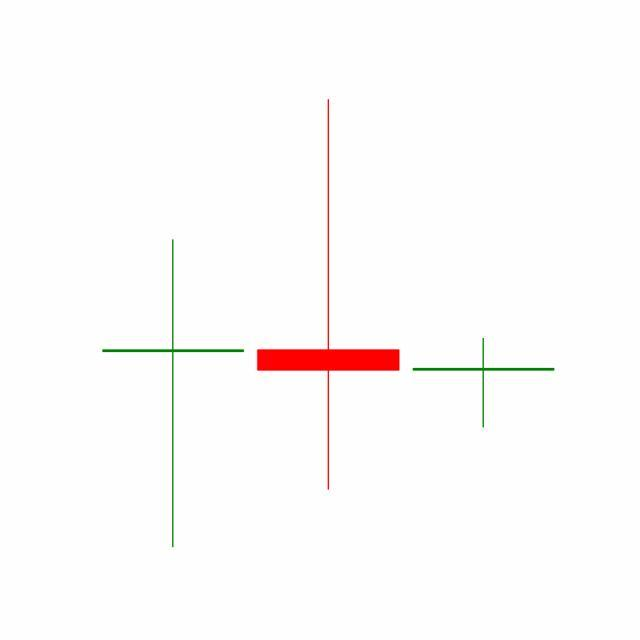Spinning Top: (406, 337, 562, 430)
